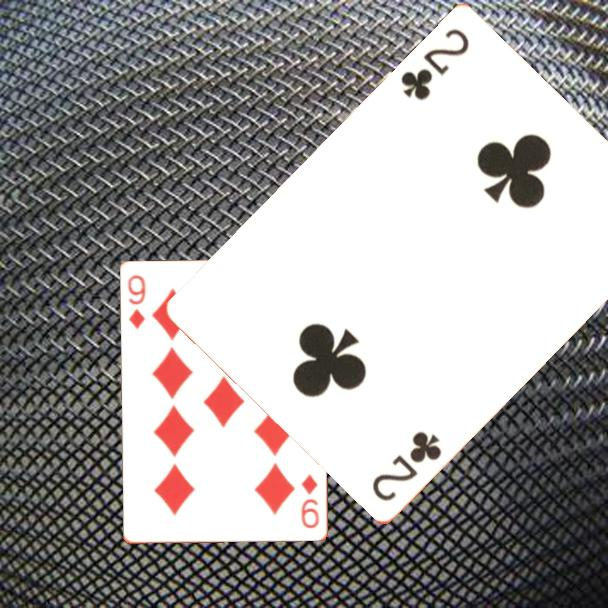c02: (368, 428, 445, 505), (397, 26, 472, 104)
d09: (124, 272, 149, 332), (298, 472, 322, 532)
